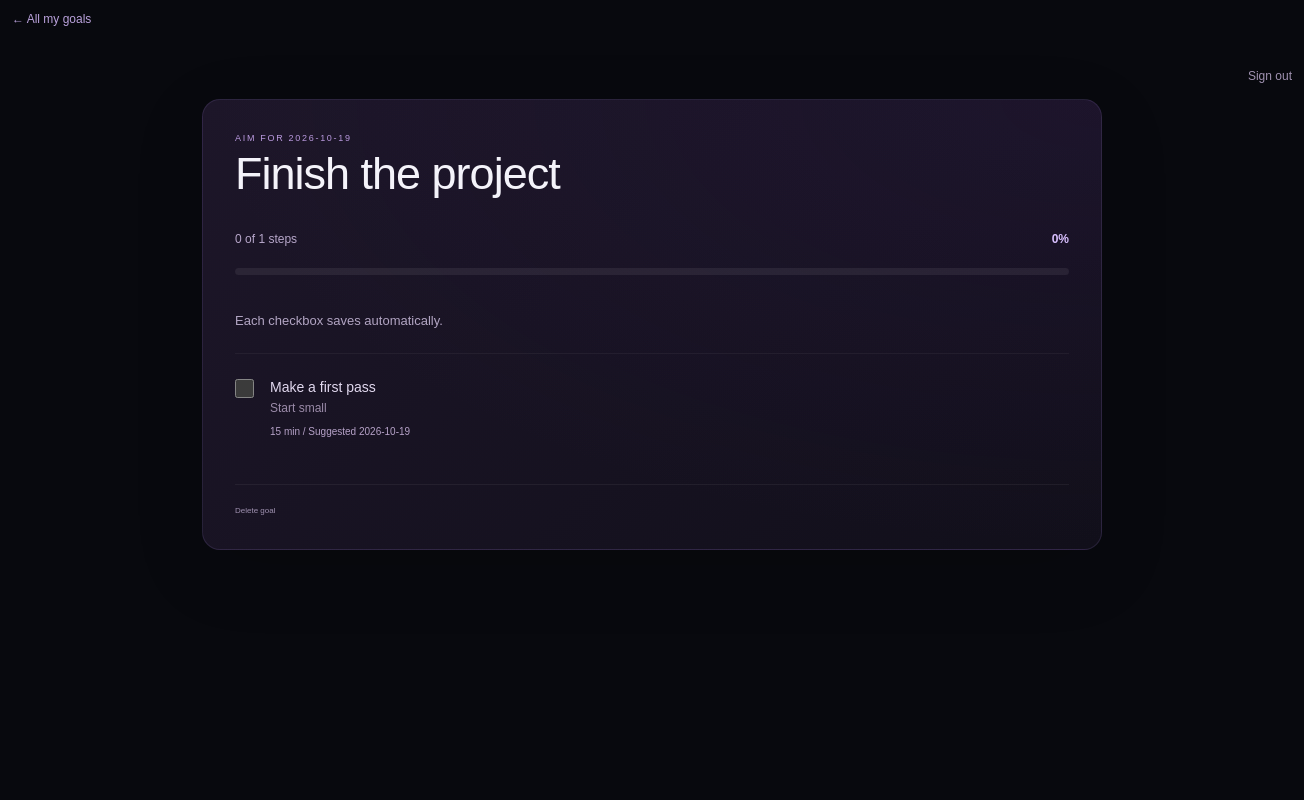
it: saved goal workspace states › clears the private view and asks for sign-in if the session expires during a write
Click the checkbox at point(244, 389), box [235,379,254,398]
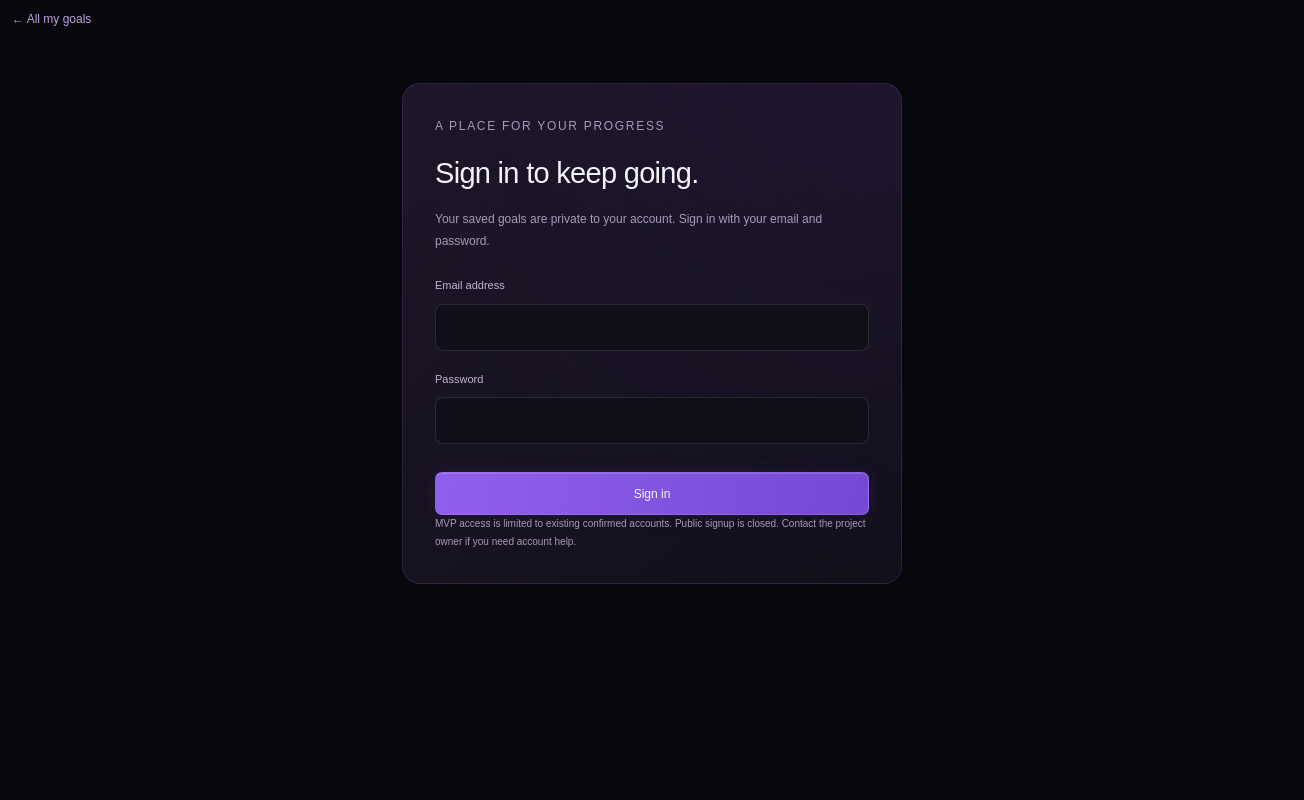
Result: the heading "Sign in to keep going." is shown at [435,157,698,189]
Result: the checkbox is gone
